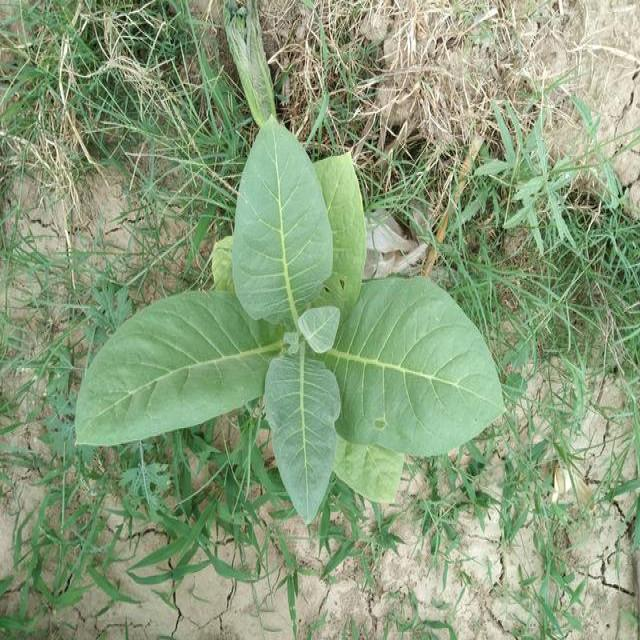crop: (80, 120, 514, 516)
